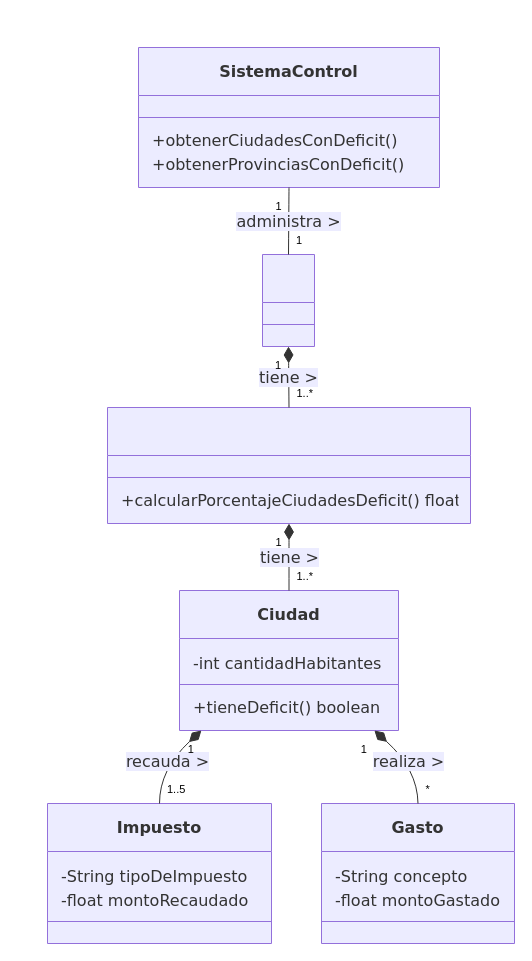
Some shapes in this 532 by 961 pixel diagram are drawn without their labels. The shapes that lost their labels are listed below. From the top down, each one's box as (x1, y1, x2, y2) in pixels, then its label:
(262, 254, 314, 346): Pais
(106, 406, 470, 524): Provincia
